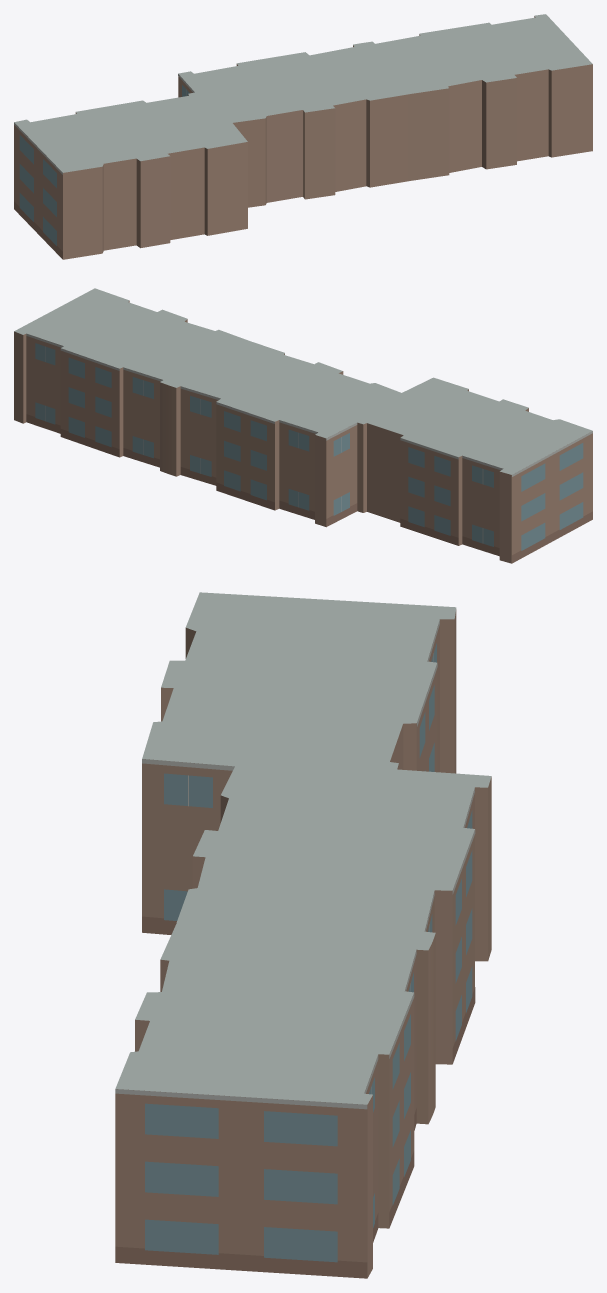
Rendered from survey-upis-32676485.glb.
3 views of the same model, one above another, from view 1: azimuth 30°, elevation 25°; view 2: azimuth 150°, elevation 25°; view 3: azimuth 270°, elevation 25° (orthographic). The views are drawn at different scales.
Visible parts, largest first — view 1: survey-upis-32676485.tmp; view 2: survey-upis-32676485.tmp; view 3: survey-upis-32676485.tmp.
Boxes of the visible parts, <box> form: survey-upis-32676485.tmp: <box>14,14,592,259</box>; survey-upis-32676485.tmp: <box>14,288,592,563</box>; survey-upis-32676485.tmp: <box>115,592,491,1278</box>.
Bounding box in the file's own units: 57.83 × 9.15 × 17.95.
